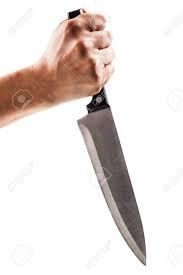Knife: (66, 7, 146, 265)
